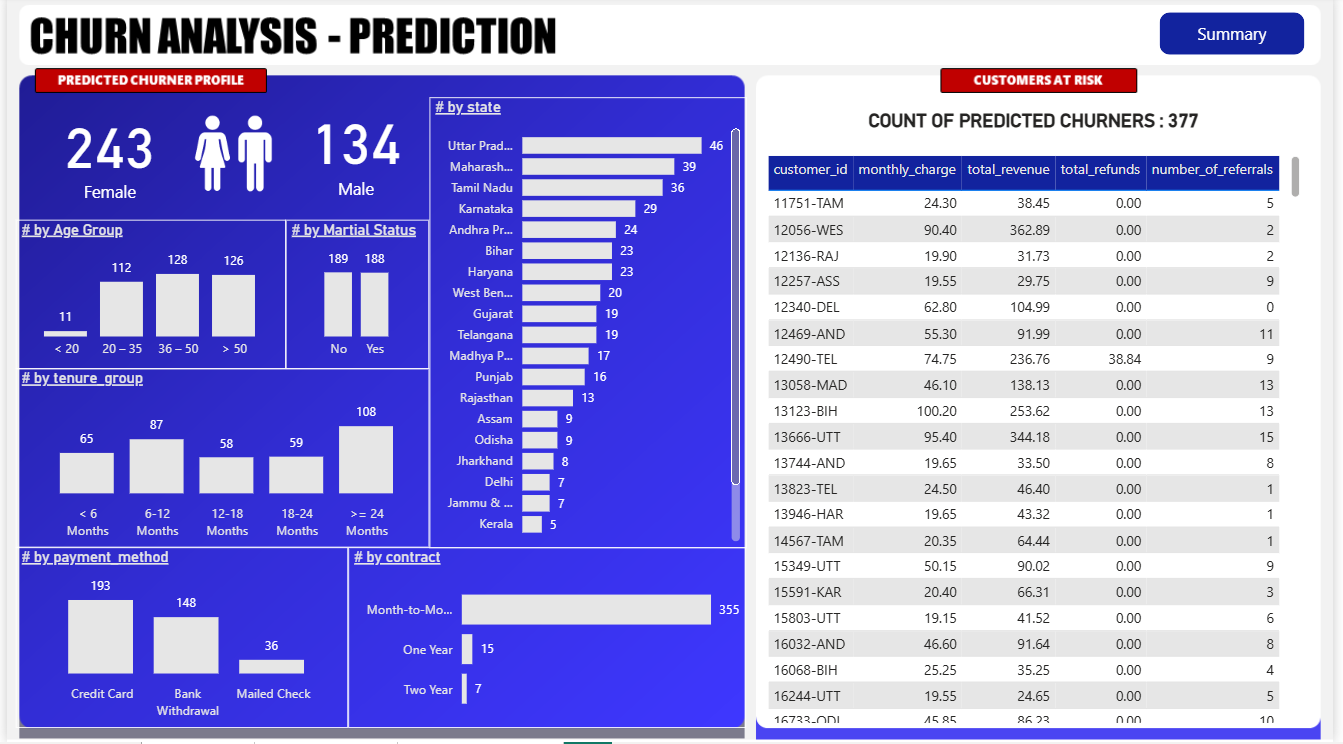

This screenshot's page, from the dashboard's own definition file:
{"tool":"powerbi","page":{"name":"Churn Prediction","canvas":[1280,720],"ordinal":2},"visuals":[{"type":"tableEx","fields":{"Values":["predictions.customer_id","predictions.monthly_charge","predictions.total_revenue","predictions.total_refunds","predictions.number_of_referrals"]},"box":[728.6,149.6,524.2,557.1],"z":0},{"type":"card","fields":{"Values":["_measures.Title Predicted Churners"]},"box":[817.8,91.9,345.8,57.6],"z":1},{"type":"card","fields":{"Values":["_measures.Count Predicted Churner"]},"box":[30.2,97.4,138.6,105.7],"z":2},{"type":"card","fields":{"Values":["_measures.Count Predicted Churner"]},"box":[269,91.9,135.8,111.1],"z":3},{"type":"clusteredColumnChart","fields":{"Category":["Mapping_AgeGrp.Age Group"],"Y":["CountNonNull(predictions.customer_id)"]},"box":[8.2,215.4,260.7,144.1],"z":4},{"type":"clusteredColumnChart","fields":{"Y":["CountNonNull(predictions.customer_id)"],"Category":["predictions.married"]},"box":[269,215.4,138.6,144.1],"z":5},{"type":"clusteredColumnChart","fields":{"Y":["CountNonNull(predictions.customer_id)"],"Category":["Mapping_TenureGrp.tenure_group"]},"box":[8.2,359.5,399.3,172.9],"z":6},{"type":"clusteredColumnChart","fields":{"Y":["CountNonNull(predictions.customer_id)"],"Category":["predictions.payment_method"]},"box":[8.2,532.4,321.1,174.3],"z":7},{"type":"clusteredBarChart","fields":{"Category":["predictions.contract"],"Y":["CountNonNull(predictions.customer_id)"]},"box":[329.3,532.4,384.2,174.3],"z":8},{"type":"clusteredBarChart","fields":{"Y":["CountNonNull(predictions.customer_id)"],"Category":["predictions.state"]},"box":[407.5,97.4,306,435],"z":9},{"type":"image","box":[164.7,100.2,108.4,102.9],"z":10},{"type":"shape","box":[1112.9,15.1,140,41.2],"z":11}]}

Visuals, with their boxes in screenshot pixels (x1, y1, x2, y2), scaled from the page's 1280x720 canvas onto the 1343x744 screenshot:
tableEx - predictions.customer_id x predictions.monthly_charge: (x1=764, y1=155, x2=1314, y2=730)
card - _measures.Title Predicted Churners: (x1=858, y1=95, x2=1221, y2=154)
card - _measures.Count Predicted Churner: (x1=32, y1=101, x2=177, y2=210)
card - _measures.Count Predicted Churner: (x1=282, y1=95, x2=425, y2=210)
clusteredColumnChart - Mapping_AgeGrp.Age Group x CountNonNull(predictions.customer_id): (x1=9, y1=223, x2=282, y2=371)
clusteredColumnChart - CountNonNull(predictions.customer_id) x predictions.married: (x1=282, y1=223, x2=428, y2=371)
clusteredColumnChart - CountNonNull(predictions.customer_id) x Mapping_TenureGrp.tenure_group: (x1=9, y1=371, x2=428, y2=550)
clusteredColumnChart - CountNonNull(predictions.customer_id) x predictions.payment_method: (x1=9, y1=550, x2=346, y2=730)
clusteredBarChart - predictions.contract x CountNonNull(predictions.customer_id): (x1=346, y1=550, x2=749, y2=730)
clusteredBarChart - CountNonNull(predictions.customer_id) x predictions.state: (x1=428, y1=101, x2=749, y2=550)
image: (x1=173, y1=104, x2=287, y2=210)
shape: (x1=1168, y1=16, x2=1315, y2=58)
